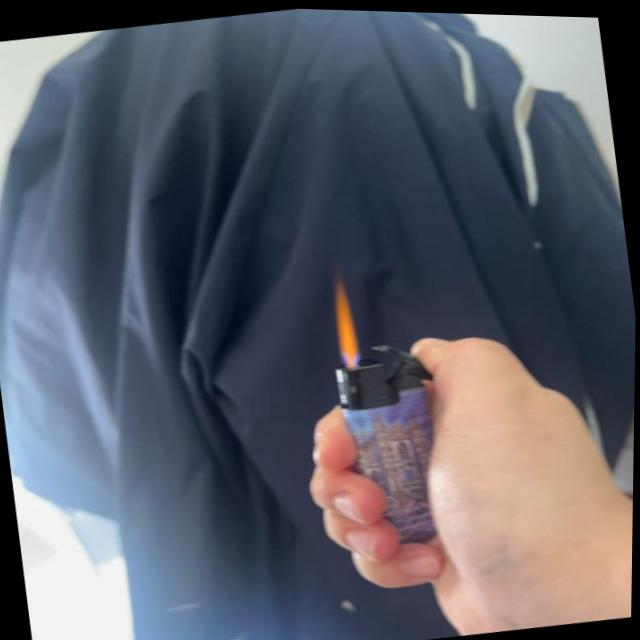Fire: (327, 273, 366, 367)
